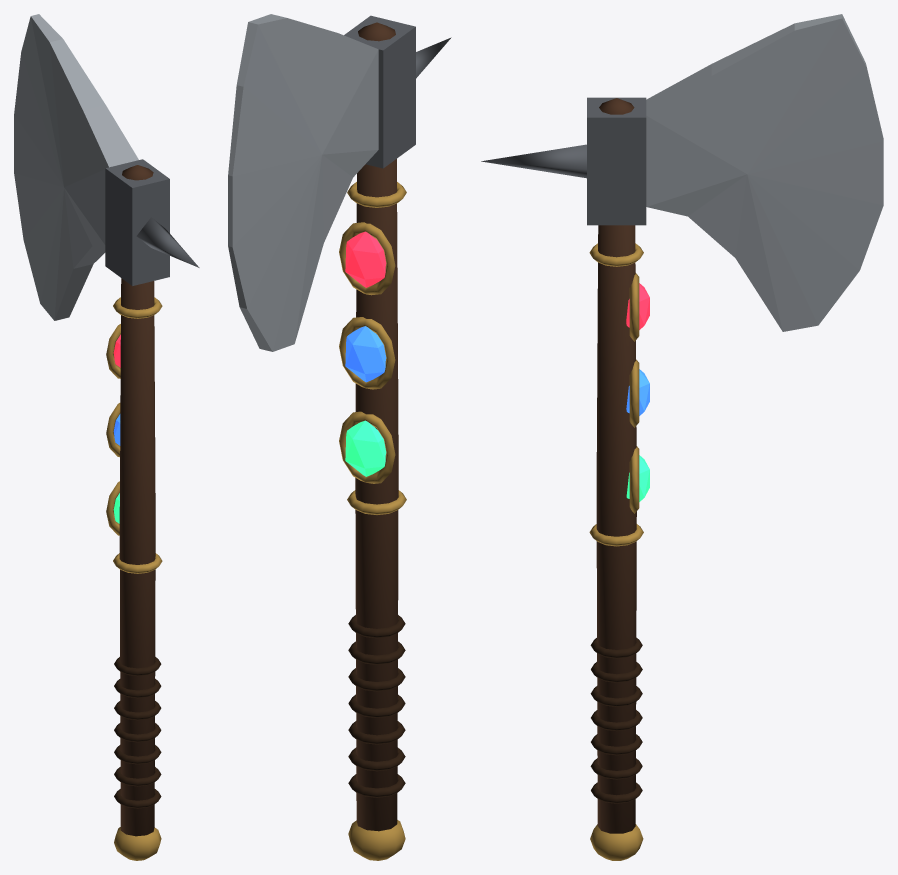
Rendered from axe.glb.
3 views of the same model, side by side, from view 1: azimuth 30°, elevation 25°; view 2: azimuth 150°, elevation 25°; view 3: azimuth 270°, elevation 25° (orthographic). The views are drawn at different scales.
Visible parts, largest first — view 1: Haft, Gem0, Gem1, Gem2; view 2: Haft, Gem0, Gem1, Gem2; view 3: Haft, Gem0, Gem1, Gem2.
Part boxes in pixels (box(x1,y1,x2,y2)): Haft: box(14, 14, 199, 860); Gem0: box(106, 324, 120, 378); Gem1: box(106, 403, 120, 457); Gem2: box(106, 481, 119, 535); Haft: box(228, 14, 451, 860); Gem0: box(339, 222, 395, 295); Gem1: box(339, 317, 395, 389); Gem2: box(339, 411, 395, 483); Haft: box(481, 14, 883, 860); Gem0: box(626, 273, 649, 341); Gem1: box(626, 359, 649, 427); Gem2: box(626, 446, 649, 513).
Bounding box in the file's own units: 0.1 × 1.57 × 0.68.
